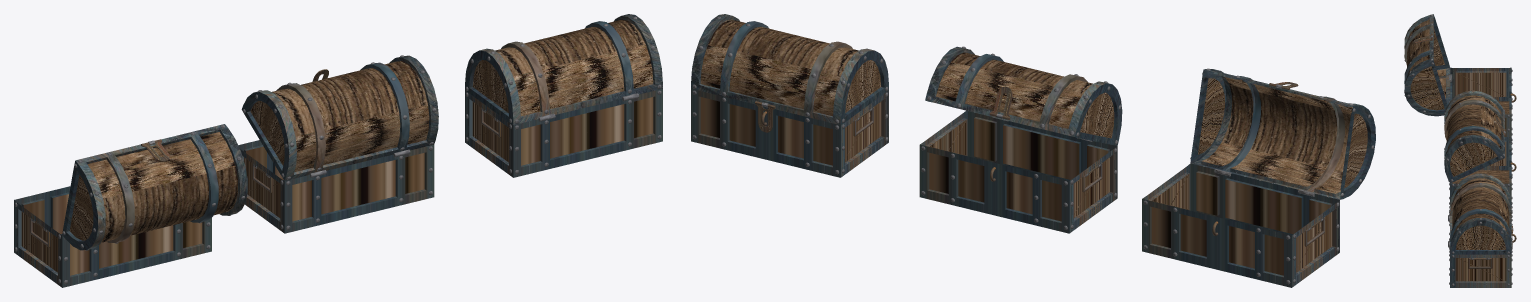
File: Сундук.fbx
3 renders of one model, left to right at view 1: azimuth 30°, elevation 25°; view 2: azimuth 150°, elevation 25°; view 3: azimuth 270°, elevation 25°, orthographic. The views are drawn at different scales.
Visible parts, largest first — view 1: Сундук.001, Сундук.003, Сундук.006, Сундук.002, Сундук.007, Сундук.004; view 2: Сундук.004, Сундук.002, Сундук.003, Сундук.006, Сундук.001, Сундук.007; view 3: Сундук.006, Сундук.001, Сундук.003, Сундук.007, Сундук.004, Сундук.002.
Boxes of the visible parts, x1,y1,x2,y2 form: Сундук.001: (241,55,438,180); Сундук.003: (62,124,247,250); Сундук.006: (465,14,662,124); Сундук.002: (238,140,434,233); Сундук.007: (465,89,662,177); Сундук.004: (14,186,211,287); Сундук.004: (1142,163,1339,287); Сундук.002: (919,110,1117,233); Сундук.003: (1190,68,1375,199); Сундук.006: (691,14,888,132); Сундук.001: (925,46,1122,145); Сундук.007: (691,89,888,177); Сундук.006: (1448,173,1513,254); Сундук.001: (1444,90,1505,183); Сундук.003: (1404,14,1451,116); Сундук.007: (1449,209,1516,287); Сундук.004: (1450,67,1516,144); Сундук.002: (1449,137,1516,213).
Bounding box in the file's own units: 395 × 86.87 × 99.78.
Materials: 7 (7 with a texture image).
